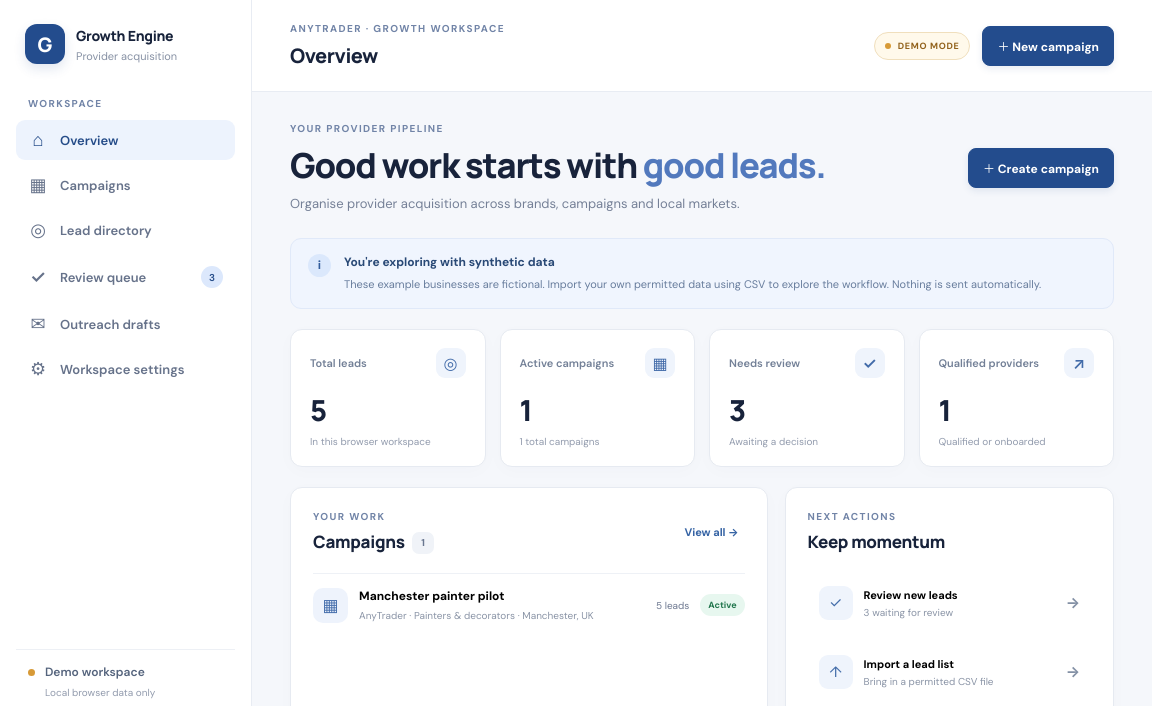
it: Growth Engine interactive workflows › offers a clear-filters action when the lead directory has no matches
Click the button "◎ Lead directory" at (126, 230), box [16, 210, 235, 250]
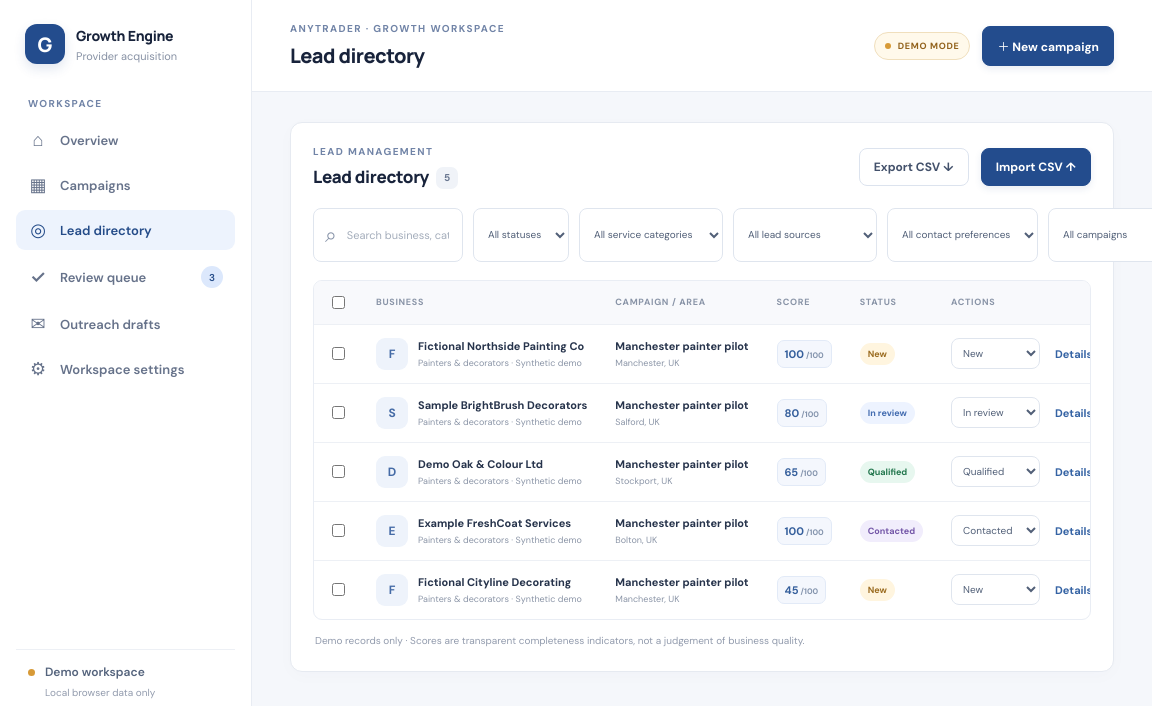
Type "no-such-business-match" into the field with placeholder "Search business, category, area, email, phone or website…" at (398, 234), box [345, 216, 451, 253]
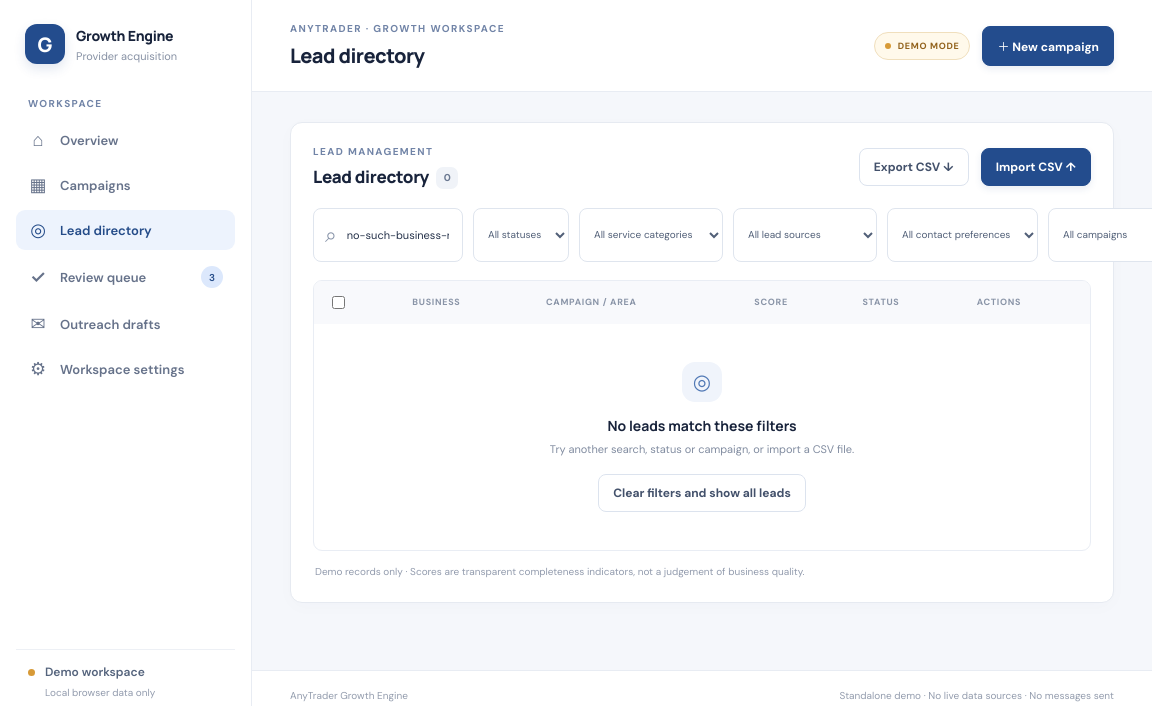
Result: the heading "No leads match these filters" is shown at [607, 416, 797, 434]
Click the button "Clear filters and show all leads" at (702, 493), box [598, 474, 806, 512]
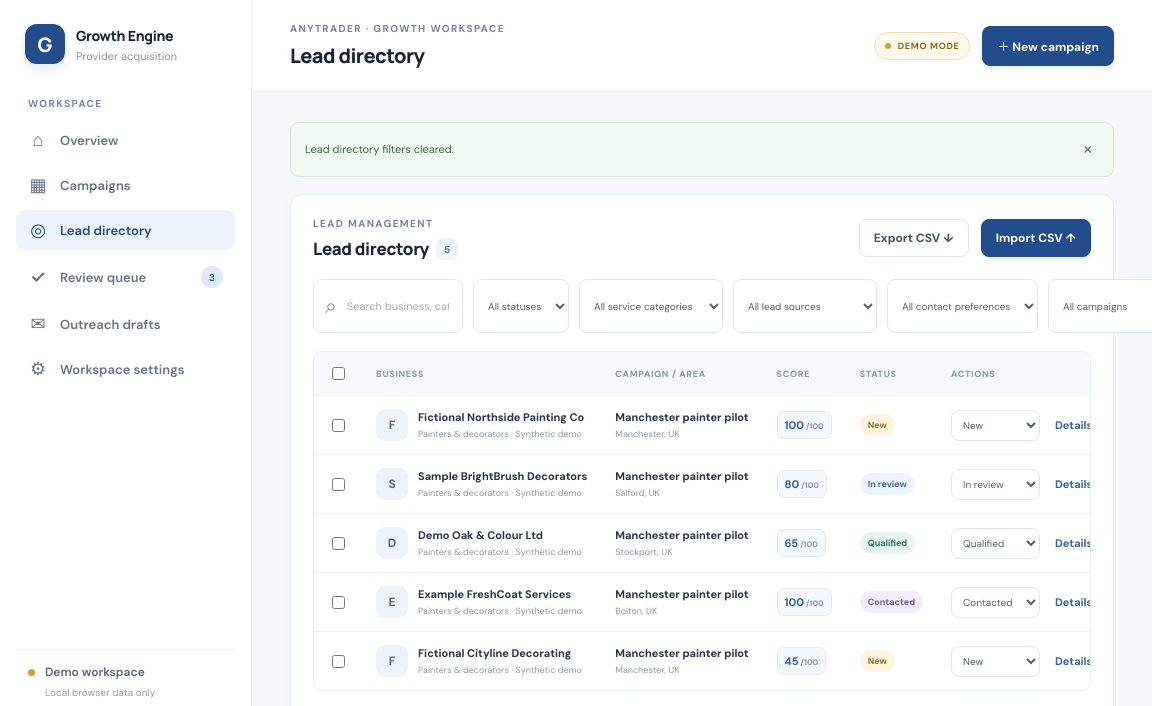
Result: the field with placeholder "Search business, category, area, email, phone or website…" is empty at [345, 288, 451, 324]
Result: the text "Fictional Northside Painting Co" is shown at [418, 410, 584, 424]
Result: the text "Sample BrightBrush Decorators" is shown at [418, 469, 587, 483]
